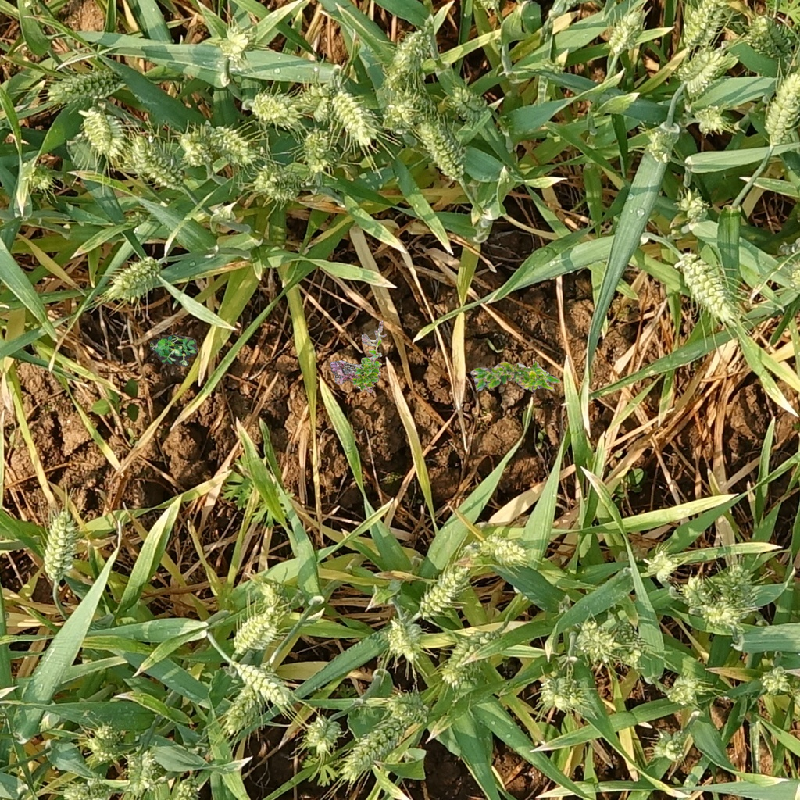spikelet: (674, 248, 741, 324), (339, 717, 406, 782), (42, 62, 125, 108), (382, 22, 437, 85), (415, 117, 467, 183), (128, 131, 187, 188), (228, 659, 295, 706), (416, 561, 471, 618), (438, 627, 490, 687), (761, 67, 800, 145), (103, 255, 164, 303), (330, 87, 377, 147), (745, 11, 798, 62), (674, 44, 729, 93), (42, 508, 79, 580), (78, 105, 127, 159), (229, 605, 281, 654), (679, 1, 730, 48), (471, 530, 532, 568), (253, 160, 306, 202), (244, 88, 301, 127), (604, 6, 646, 56), (219, 685, 260, 735), (539, 670, 586, 713), (574, 619, 617, 664), (383, 615, 424, 661), (123, 745, 160, 795), (722, 562, 759, 611), (300, 126, 336, 174), (84, 722, 127, 762), (447, 83, 490, 122), (384, 689, 430, 724), (214, 22, 253, 63), (150, 331, 197, 365), (644, 120, 682, 162), (698, 595, 742, 630), (303, 714, 341, 753), (212, 124, 251, 161), (59, 774, 114, 800), (177, 128, 212, 168), (664, 672, 702, 708), (652, 727, 690, 763), (381, 96, 416, 135), (643, 546, 678, 582), (675, 186, 709, 223), (302, 83, 334, 122), (693, 103, 731, 135), (757, 663, 793, 696), (679, 574, 710, 612), (24, 160, 56, 193), (166, 775, 202, 799)
weed: (330, 320, 387, 393), (470, 360, 561, 393), (150, 334, 198, 367)
